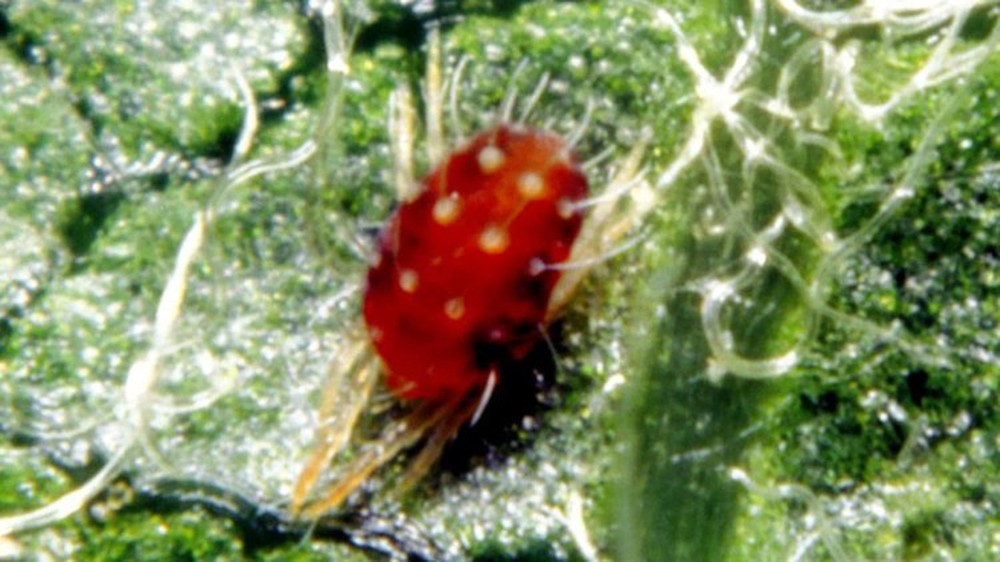Aracnido Rojo: (263, 65, 675, 531)
